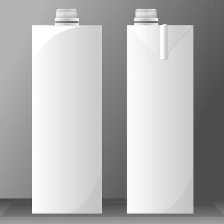carton: (27, 6, 106, 216), (123, 6, 199, 217)
